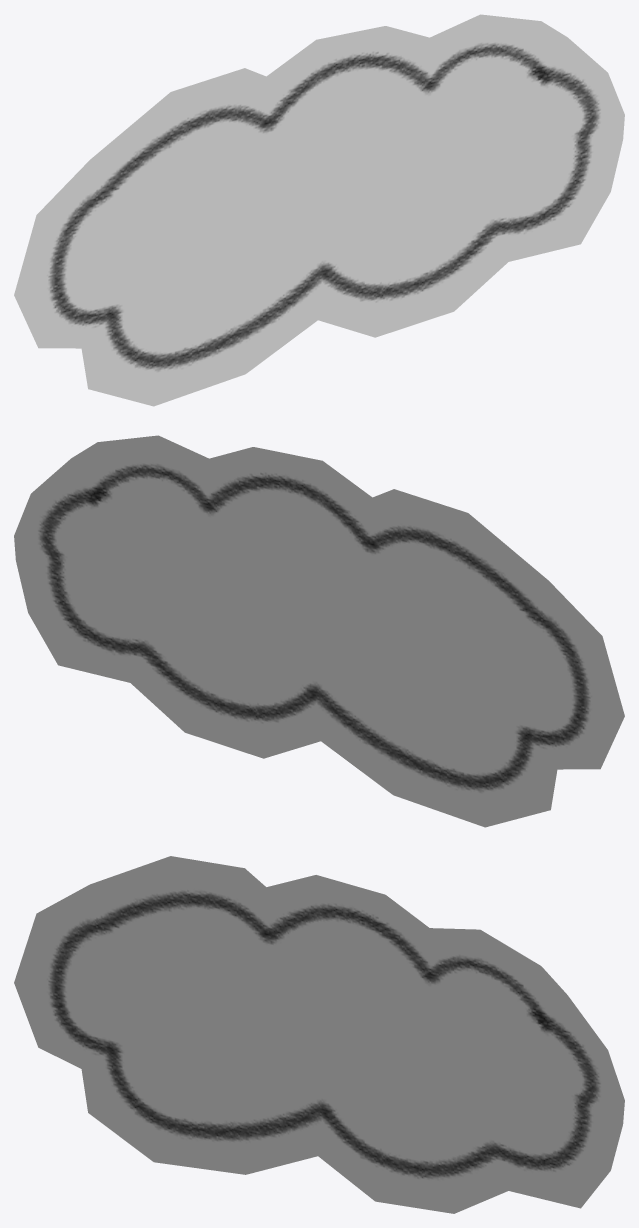
The model's file is Moln1.fbx.
3 views of the same model, one above another, from view 1: azimuth 30°, elevation 25°; view 2: azimuth 150°, elevation 25°; view 3: azimuth 330°, elevation 25° (orthographic).
Parts seen in each view (by area): view 1: Moln1; view 2: Moln1; view 3: Moln1.
Boxes of the visible parts, box(x1,y1,x2,y2) form: Moln1: box(14, 14, 624, 406); Moln1: box(14, 435, 624, 827); Moln1: box(14, 856, 624, 1213).
Size of the model in its own units: 38.57 by 19.73 by 3.21e-06.
1 material, 1 textured.
